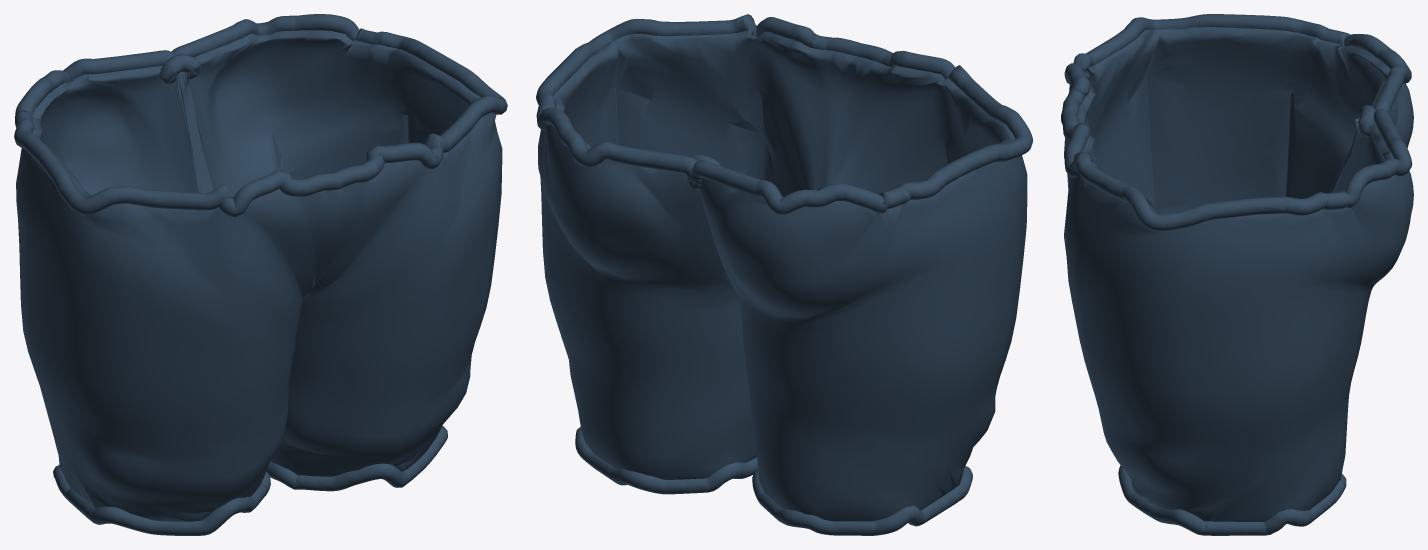
The model's file is 2HT-feminino.glb.
3 views of the same model, side by side, from view 1: azimuth 30°, elevation 25°; view 2: azimuth 150°, elevation 25°; view 3: azimuth 270°, elevation 25° (orthographic). The views are drawn at different scales.
Visible parts, largest first — view 1: fitted-shell, bound-edge (×3); view 2: fitted-shell, bound-edge (×3); view 3: fitted-shell, bound-edge (×2).
Part boxes in pixels (box(x1,y1,x2,y2)): fitted-shell: box(16, 30, 502, 521); bound-edge (×3): box(14, 14, 507, 535); fitted-shell: box(538, 22, 1027, 521); bound-edge (×3): box(536, 14, 1032, 535); fitted-shell: box(1064, 27, 1413, 522); bound-edge (×2): box(1061, 14, 1412, 535).
Size of the model in its own units: 0.0371 by 0.0308 by 0.0274.
